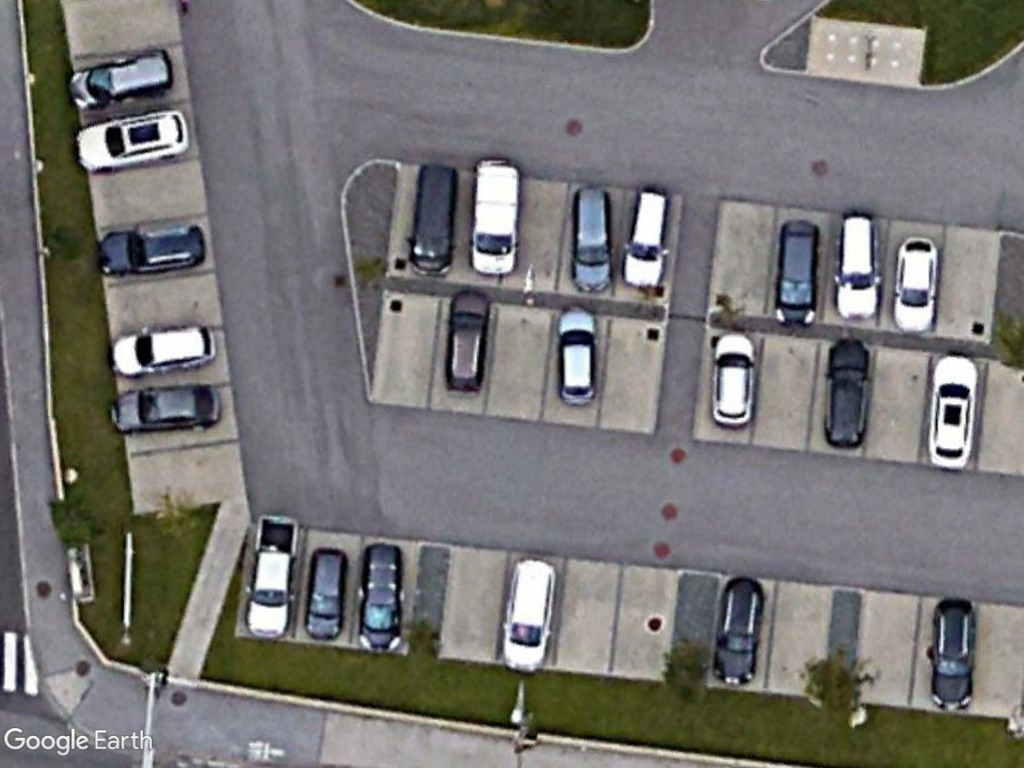car: (70, 101, 196, 176), (496, 553, 563, 677), (65, 45, 177, 114), (922, 352, 986, 472), (107, 316, 222, 379), (91, 219, 210, 279), (104, 379, 226, 437), (708, 573, 768, 689), (925, 596, 983, 714), (828, 207, 884, 326), (823, 330, 876, 455), (354, 541, 408, 659), (440, 285, 496, 398), (771, 213, 824, 332), (704, 325, 761, 435), (886, 234, 946, 338), (619, 183, 675, 293), (570, 179, 619, 300), (298, 544, 354, 644), (553, 300, 602, 412)
other: (236, 507, 305, 644)
van: (466, 156, 527, 280), (398, 160, 461, 277)
